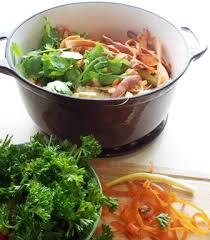Organic: (4, 21, 177, 106), (0, 139, 102, 240), (104, 166, 210, 240)
